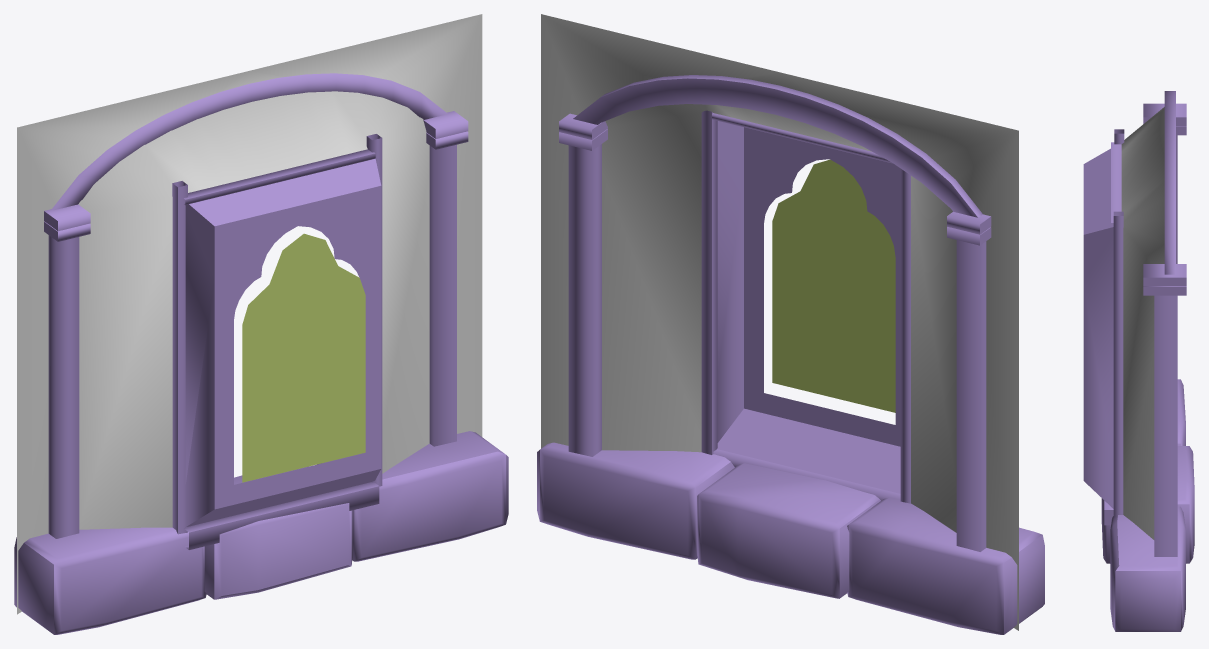
The model's file is window_b_inside_variant_a.fbx.
3 views of the same model, side by side, from view 1: azimuth 30°, elevation 25°; view 2: azimuth 150°, elevation 25°; view 3: azimuth 270°, elevation 25° (orthographic). The views are drawn at different scales.
Visible parts, largest first — view 1: Cube.014; view 2: Cube.014; view 3: Cube.014.
Boxes of the visible parts, left/top/right/bottom form: Cube.014: left=14, top=14, right=508, bottom=634; Cube.014: left=537, top=14, right=1044, bottom=634; Cube.014: left=1083, top=91, right=1194, bottom=631.
Bounding box in the file's own units: 5 × 5.05 × 1.3.
